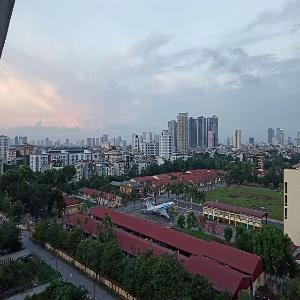drone: (210, 158, 259, 207)
